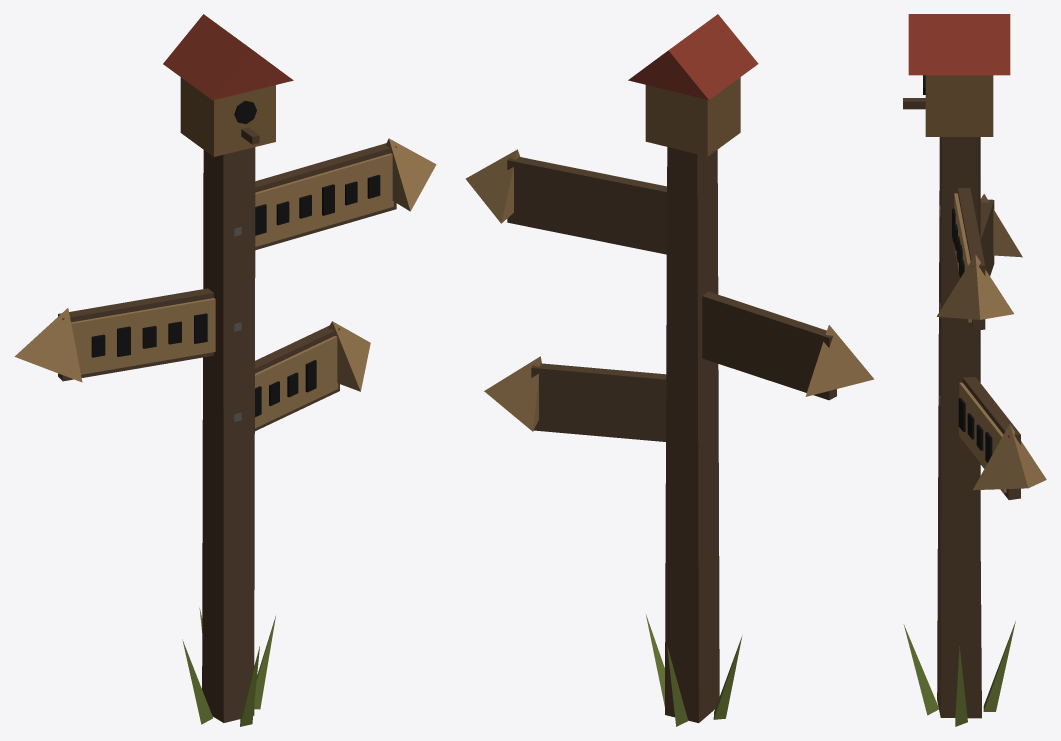
File: signpost.glb
The picture shows the model from 3 angles, left to right: view 1: azimuth 30°, elevation 25°; view 2: azimuth 150°, elevation 25°; view 3: azimuth 270°, elevation 25°; orthographic projection. The views are drawn at different scales.
Parts seen in each view (by area): view 1: signpost, Sign; view 2: signpost, Sign; view 3: signpost, Sign.
Boxes of the visible parts, bbox=[...] form: signpost: bbox=[163, 14, 293, 726]; Sign: bbox=[14, 138, 436, 431]; signpost: bbox=[628, 14, 758, 726]; Sign: bbox=[465, 149, 874, 441]; signpost: bbox=[903, 14, 1015, 726]; Sign: bbox=[937, 188, 1046, 499].
Bounding box in the file's own units: 1.74 × 2.73 × 0.5093.
